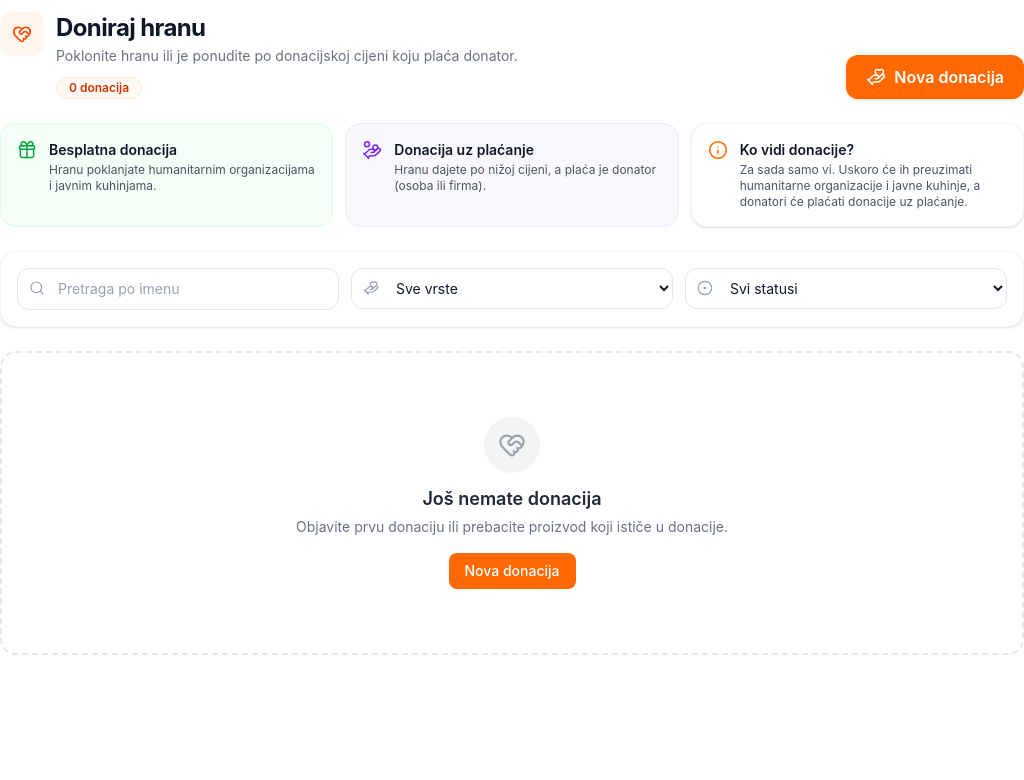
DonateFoodPage › sends the filters to the server
Step 1. Select "Donacija uz plaćanje" in the dropdown named "Vrsta donacije" → (512,288), box [351,268,673,309]
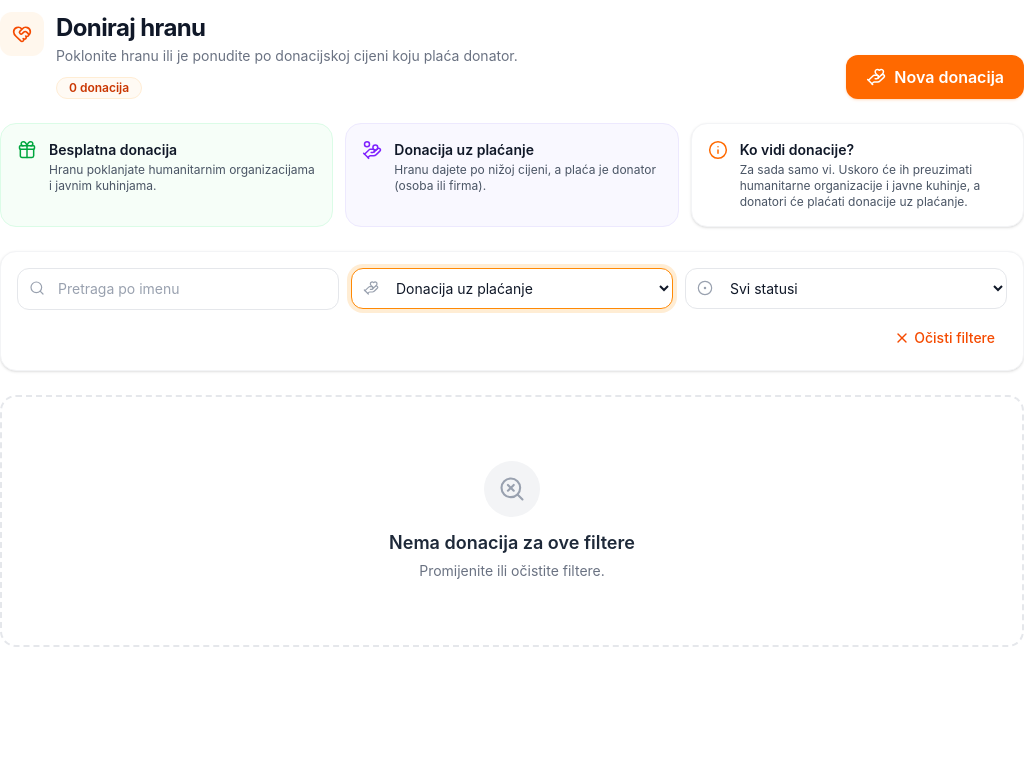
Check: the heading "Nema donacija za ove filtere" is shown, box [389,529,635,557]
